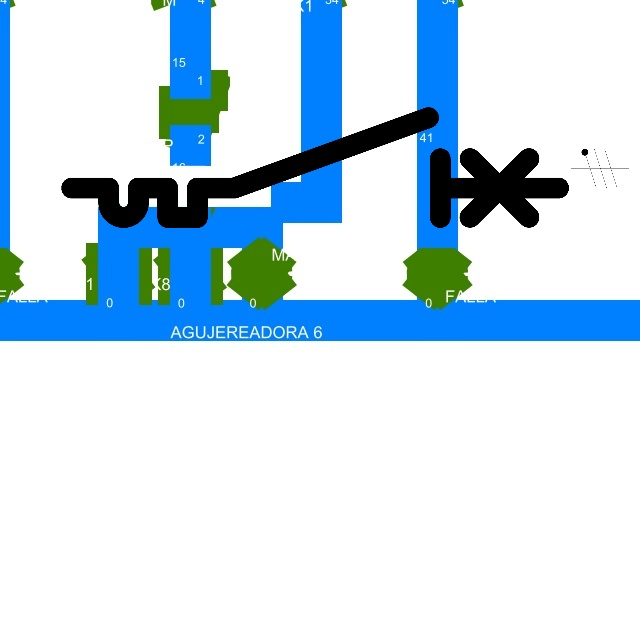interruptor_termomagnetico: (59, 105, 571, 230)
